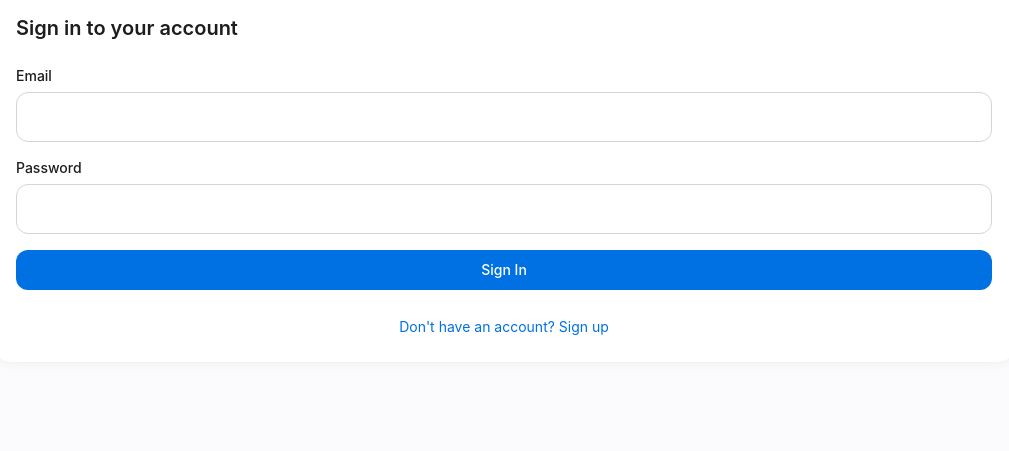
LoginPage › Sign Up Form › switches to sign up form when toggle is clicked
Click the button "Don't have an account? Sign up". click: [504, 327]
box: [399,317,609,337]
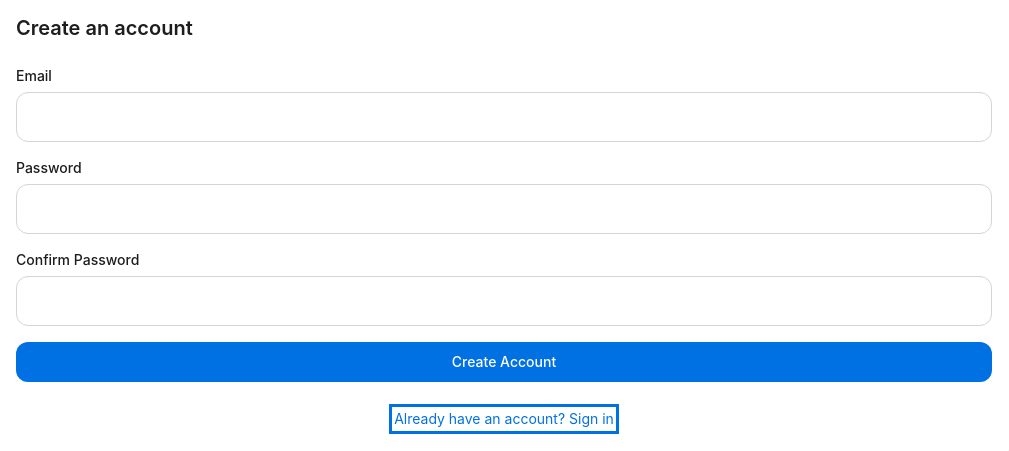
expect the heading "Create an account" is shown: met, box [16,16,193,40]
expect the password field labelled "Confirm Password" is shown: met, box [16,276,992,326]
